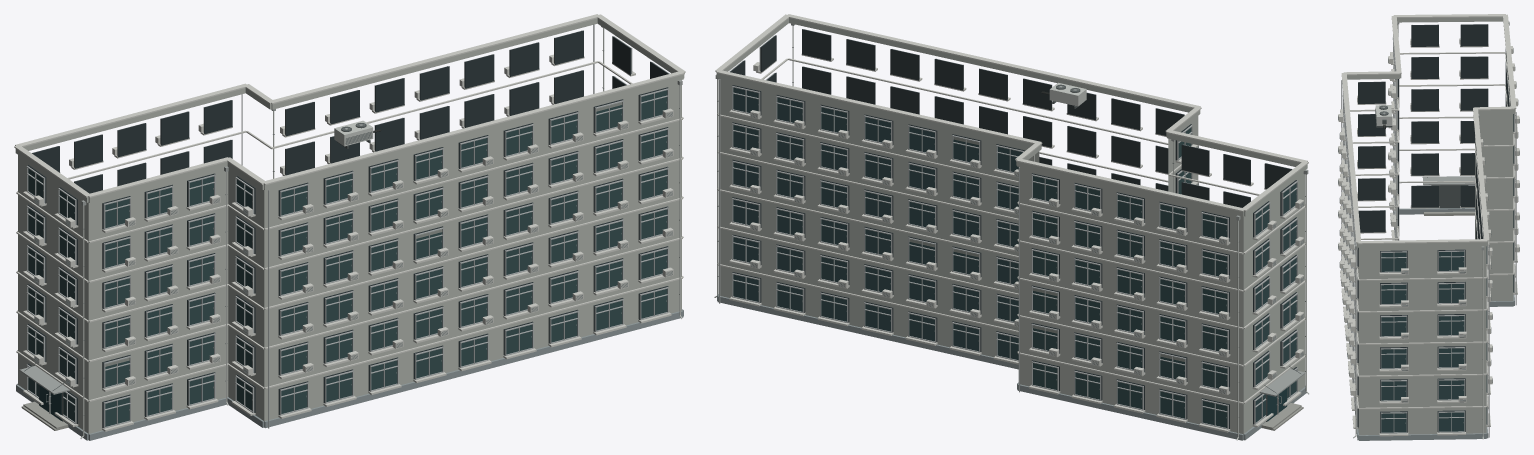
Rendered from osm_way_223859794.glb.
3 renders of one model, left to right at view 1: azimuth 30°, elevation 25°; view 2: azimuth 150°, elevation 25°; view 3: azimuth 270°, elevation 25°, orthographic. The views are drawn at different scales.
Parts seen in each view (by area): view 1: Windows and facade details | 9, Architecture | 9, Roof services | 9, EXTERIOR::osm_way_223859794::rainwater and roof service deta, EXTERIOR::osm_way_223859794::inferred entry doors canopy and; view 2: Windows and facade details | 9, Architecture | 9, Roof services | 9, EXTERIOR::osm_way_223859794::rainwater and roof service deta, EXTERIOR::osm_way_223859794::inferred entry doors canopy and, EXTERIOR::osm_way_223859794::native pane seals and hardware; view 3: Windows and facade details | 9, Architecture | 9, Roof services | 9, EXTERIOR::osm_way_223859794::rainwater and roof service deta, EXTERIOR::osm_way_223859794::inferred entry doors canopy and.
Part boxes in pixels (left/top/right/bottom): Windows and facade details | 9: left=23, top=24, right=673, bottom=431; Architecture | 9: left=15, top=18, right=684, bottom=440; Roof services | 9: left=14, top=14, right=685, bottom=197; EXTERIOR::osm_way_223859794::rainwater and roof service deta: left=80, top=26, right=682, bottom=438; EXTERIOR::osm_way_223859794::inferred entry doors canopy and: left=19, top=363, right=70, bottom=430; Windows and facade details | 9: left=719, top=29, right=1303, bottom=432; Architecture | 9: left=716, top=18, right=1307, bottom=440; Roof services | 9: left=715, top=14, right=1308, bottom=211; EXTERIOR::osm_way_223859794::rainwater and roof service deta: left=714, top=23, right=1309, bottom=440; EXTERIOR::osm_way_223859794::inferred entry doors canopy and: left=1259, top=366, right=1305, bottom=430; EXTERIOR::osm_way_223859794::native pane seals and hardware: left=758, top=104, right=1296, bottom=417; Windows and facade details | 9: left=1338, top=24, right=1519, bottom=437; Architecture | 9: left=1345, top=17, right=1515, bottom=440; Roof services | 9: left=1341, top=14, right=1516, bottom=244; EXTERIOR::osm_way_223859794::rainwater and roof service deta: left=1353, top=21, right=1509, bottom=439; EXTERIOR::osm_way_223859794::inferred entry doors canopy and: left=1422, top=176, right=1474, bottom=215.
Size of the model in its own units: 50.31 by 20.58 by 16.41.
